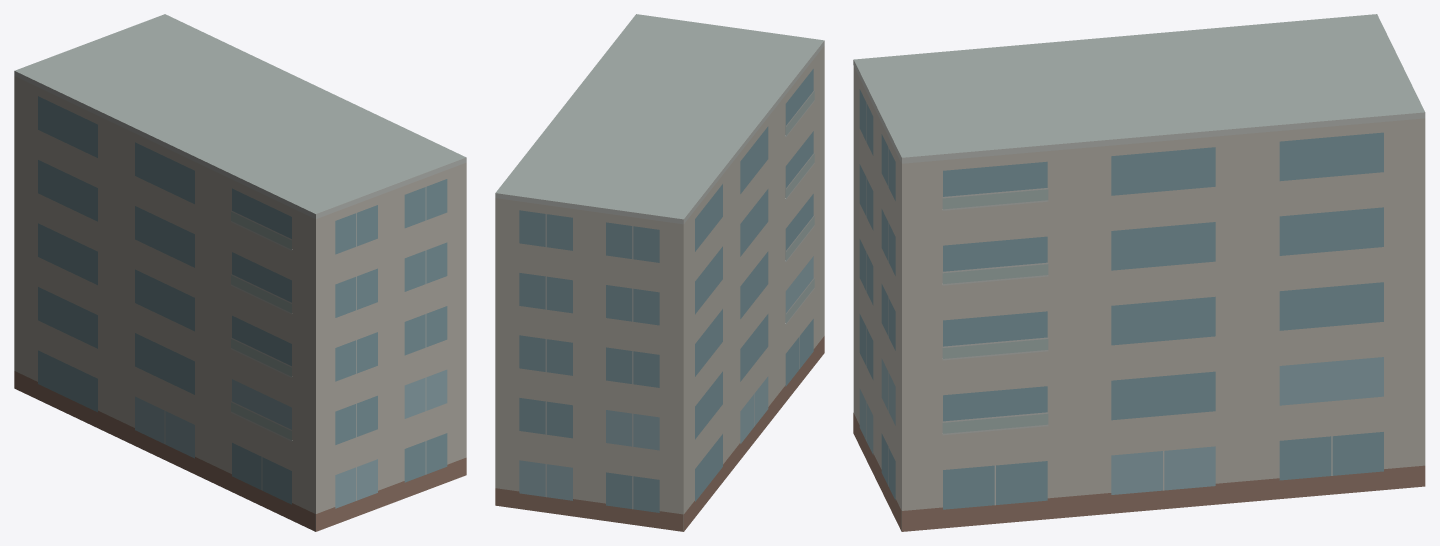
Rendered from survey-upis-32718416.glb.
The picture shows the model from 3 angles, left to right: view 1: azimuth 30°, elevation 25°; view 2: azimuth 150°, elevation 25°; view 3: azimuth 270°, elevation 25°; orthographic projection. The views are drawn at different scales.
Parts seen in each view (by area): view 1: survey-upis-32718416.tmp; view 2: survey-upis-32718416.tmp; view 3: survey-upis-32718416.tmp.
Part boxes in pixels (left/top/right/bottom): survey-upis-32718416.tmp: left=14, top=14, right=466, bottom=531; survey-upis-32718416.tmp: left=495, top=14, right=824, bottom=531; survey-upis-32718416.tmp: left=853, top=14, right=1425, bottom=531.
Bounding box in the file's own units: 12.58 × 15.25 × 21.13.
